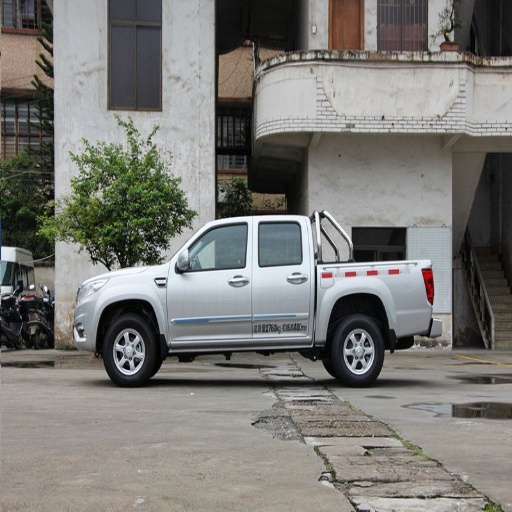back_left_door: (253, 219, 311, 334)
front_left_door: (167, 221, 253, 339)
trunk: (310, 264, 430, 345)
